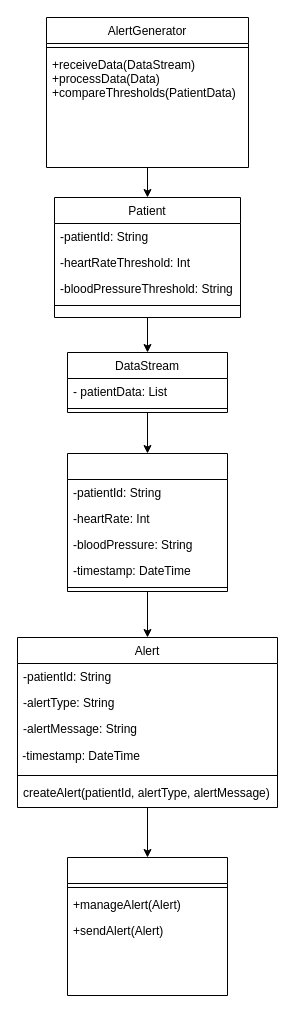
Image size: 295x1013. Some labels were removed from this diagram. The shapes that lost their labels are listed below. From the top down, each one's box as (x1, y1, x2, y2) in pixels, then its label:
(66, 452, 228, 592): PatientData
(66, 856, 228, 996): AlertManager
